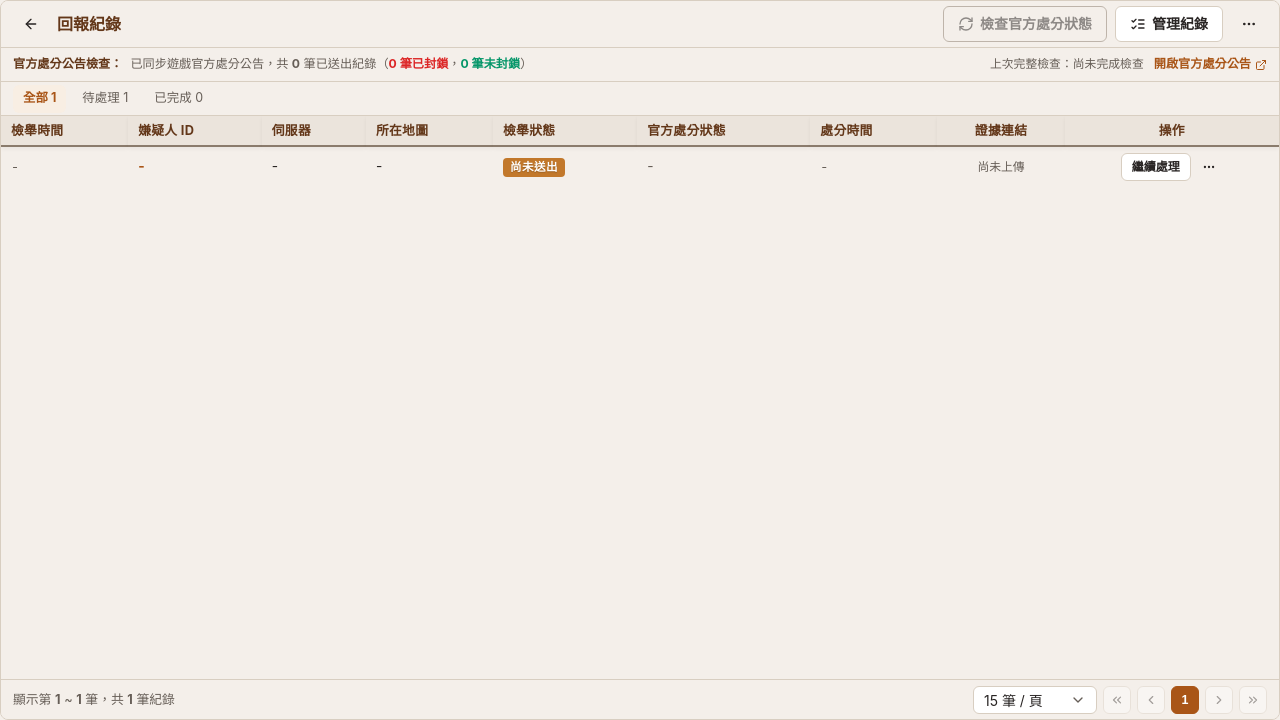
HistoryView evidence links and sanction status › disables recognition when both OCR auto-fill settings are off
What coordinates should you click on to do the following:
click the button with test id "continue-draft-draft-no-ocr"
I would click on:
 (1156, 167)
Its box is [1121,153,1191,181].
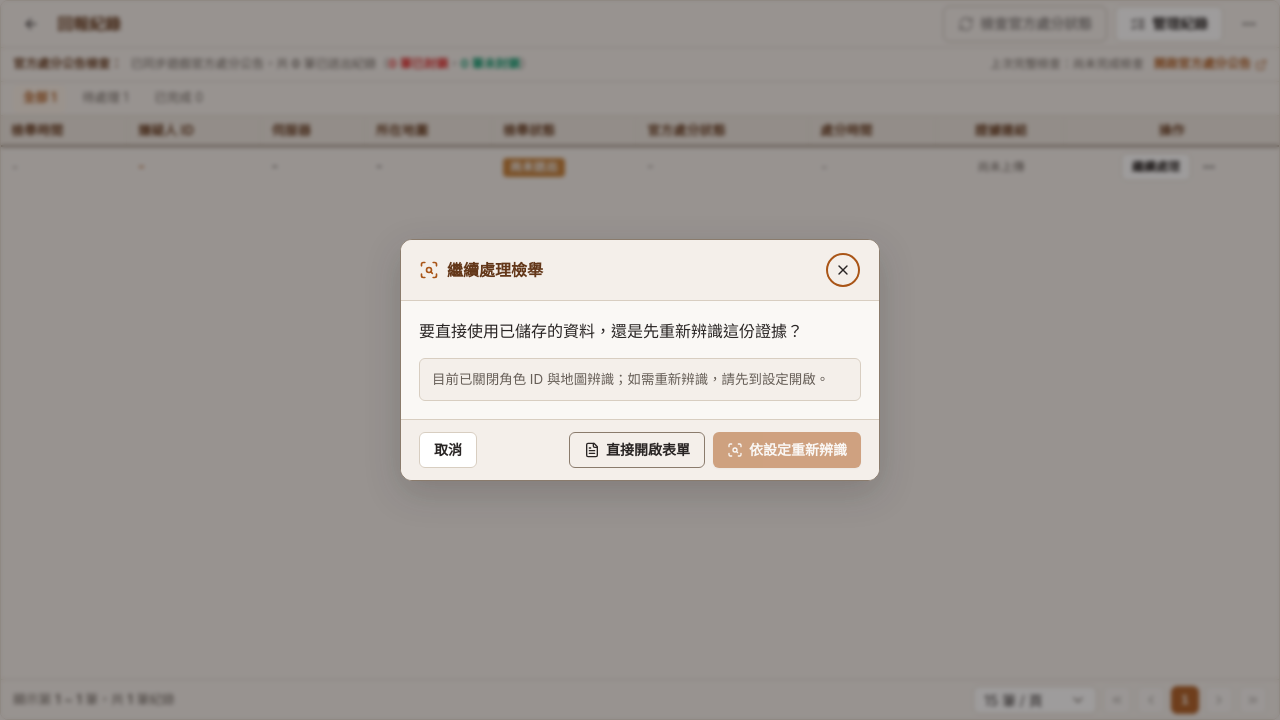
Now the button with test id "continue-draft-with-recognition" is disabled, box [713,432,861,468]
Now the text "目前已關閉角色 ID 與地圖辨識；如需重新辨識，請先到設定開啟。" is shown, box [419,358,861,401]
